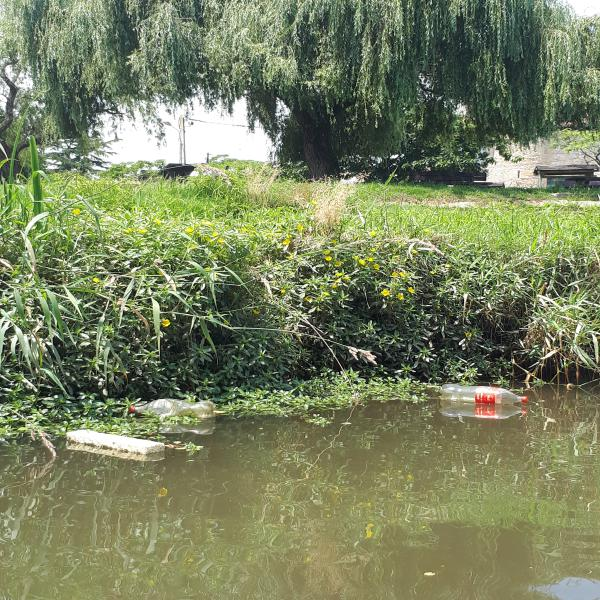bottles: (435, 380, 531, 407), (124, 397, 219, 422)
others: (60, 424, 172, 461)
